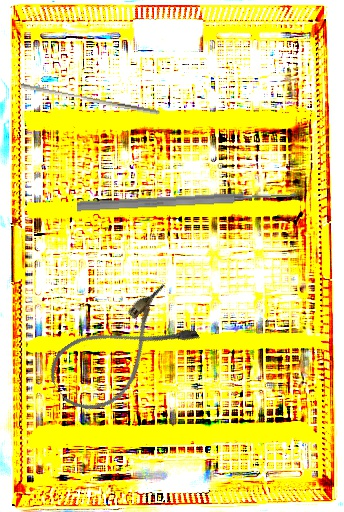Cannula: (40, 281, 203, 424)
Pusher: (76, 188, 295, 214), (19, 82, 161, 116)
